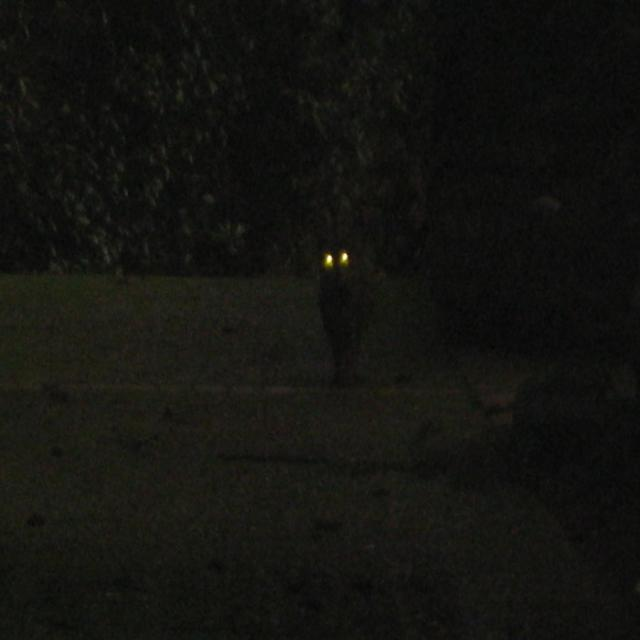Cat: (281, 214, 405, 393)
